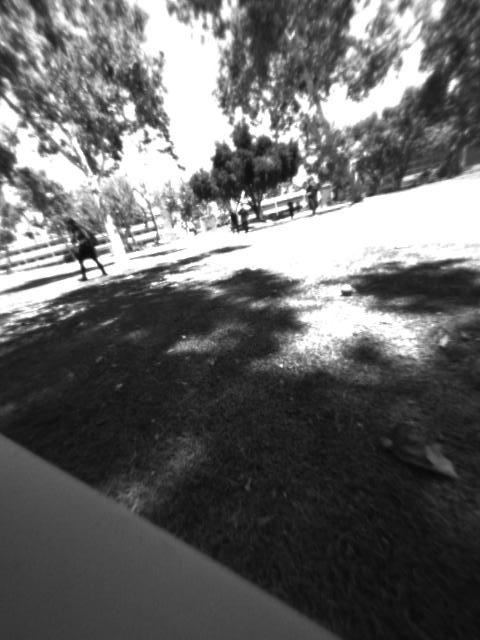dogtoy: (330, 277, 363, 300)
